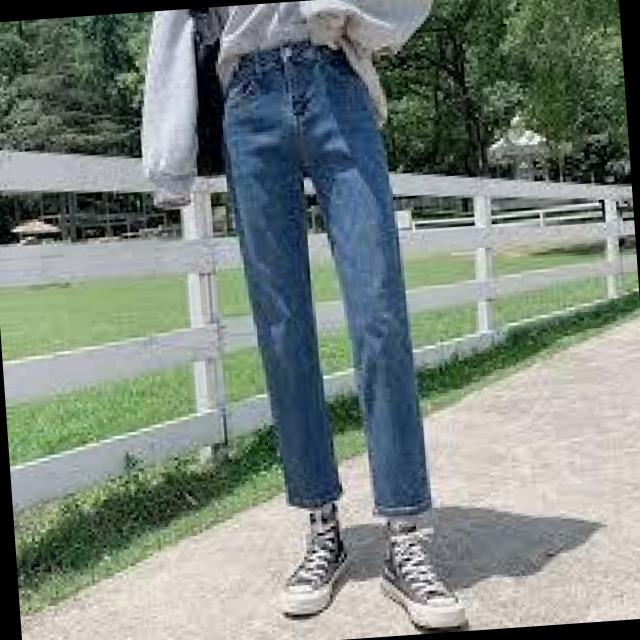pants: (198, 31, 451, 532)
